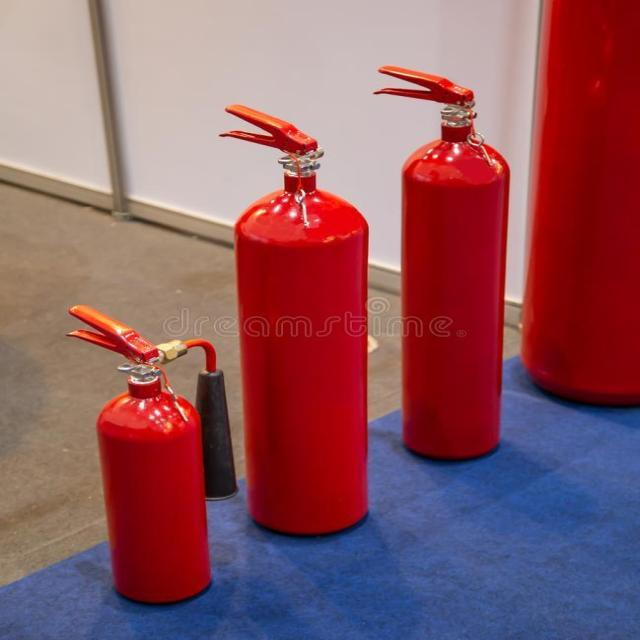fire_extinguisher: (213, 101, 374, 540), (366, 61, 513, 467), (55, 300, 246, 610), (517, 0, 639, 412)
